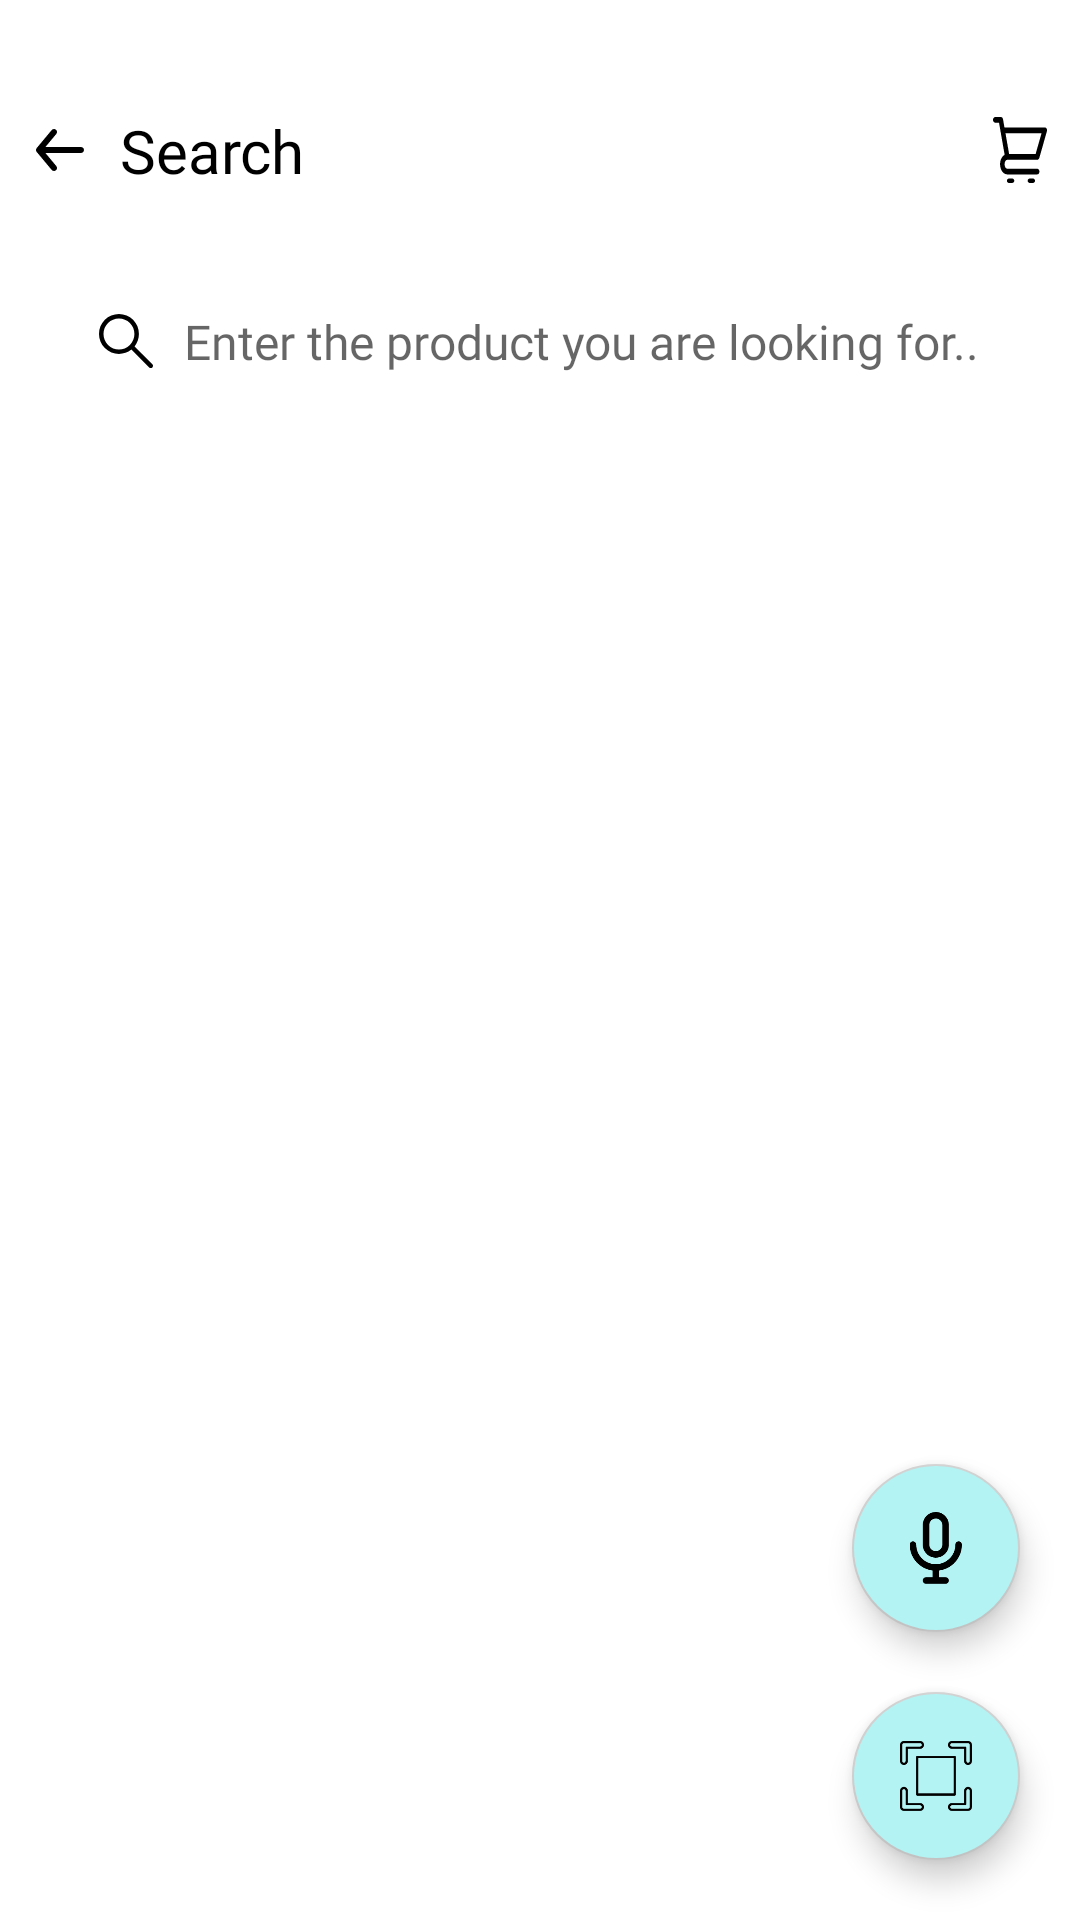

Icons on this 1080*1920 Android screen, each with its box as rect(x1, y1, x2, y2):
back: rect(36, 129, 84, 171)
cart: rect(993, 117, 1047, 183)
mic: rect(852, 1464, 1020, 1632)
scan: rect(852, 1692, 1020, 1860)
